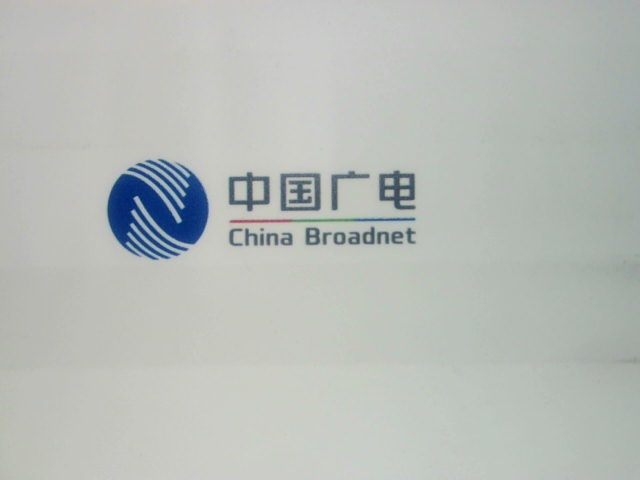AW_ChinaBroadNet: (105, 143, 440, 281)
